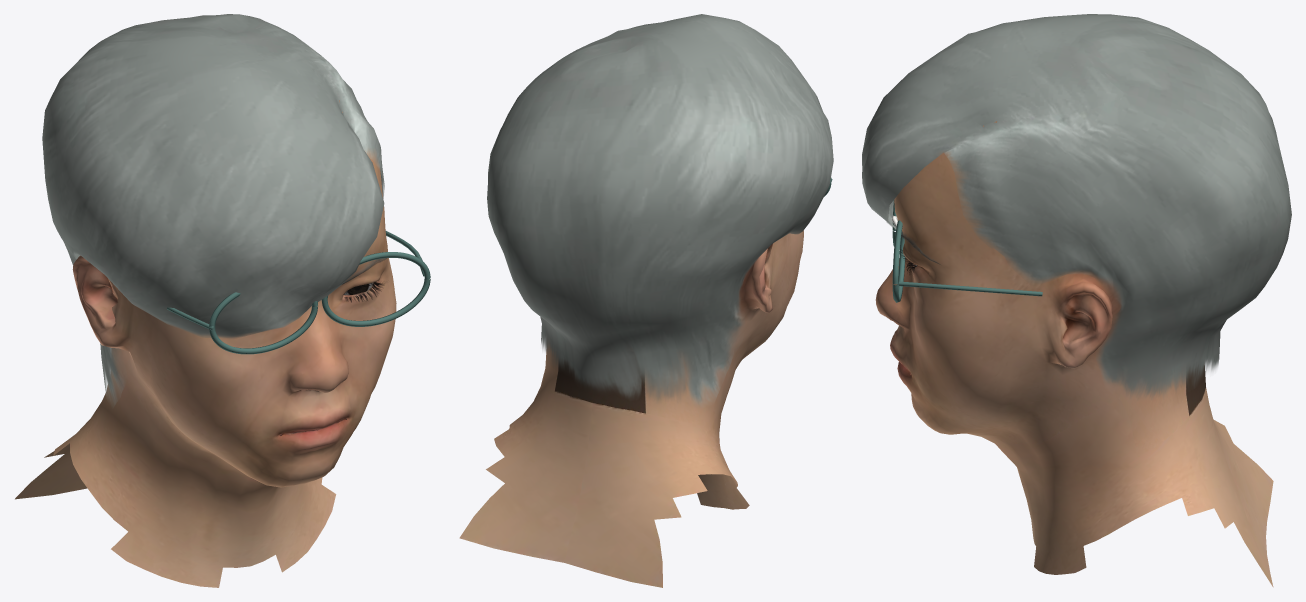
The model's file is patient02.glb.
3 renders of one model, left to right at view 1: azimuth 30°, elevation 25°; view 2: azimuth 150°, elevation 25°; view 3: azimuth 270°, elevation 25°, orthographic. The views are drawn at different scales.
Visible parts, largest first — view 1: choi_gyosu.short03, choi_gyosu.body, professor.frame.accessory (×2); view 2: choi_gyosu.short03, choi_gyosu.body; view 3: choi_gyosu.short03, choi_gyosu.body, professor.frame.accessory, professor.temple.accessory.
Part boxes in pixels (x1=…): choi_gyosu.short03: x1=42, y1=14, x2=384, y2=405; choi_gyosu.body: x1=15, y1=100, x2=396, y2=587; professor.frame.accessory (×2): x1=209, y1=252, x2=430, y2=354; choi_gyosu.short03: x1=487, y1=14, x2=833, y2=406; choi_gyosu.body: x1=459, y1=230, x2=803, y2=587; choi_gyosu.short03: x1=862, y1=14, x2=1291, y2=398; choi_gyosu.body: x1=875, y1=121, x2=1273, y2=587; professor.frame.accessory: x1=892, y1=220, x2=905, y2=302; professor.temple.accessory: x1=899, y1=281, x2=1042, y2=296.
Bounding box in the file's own units: 0.1802 × 0.3051 × 0.2317.
Materials: 11 (7 with a texture image).
